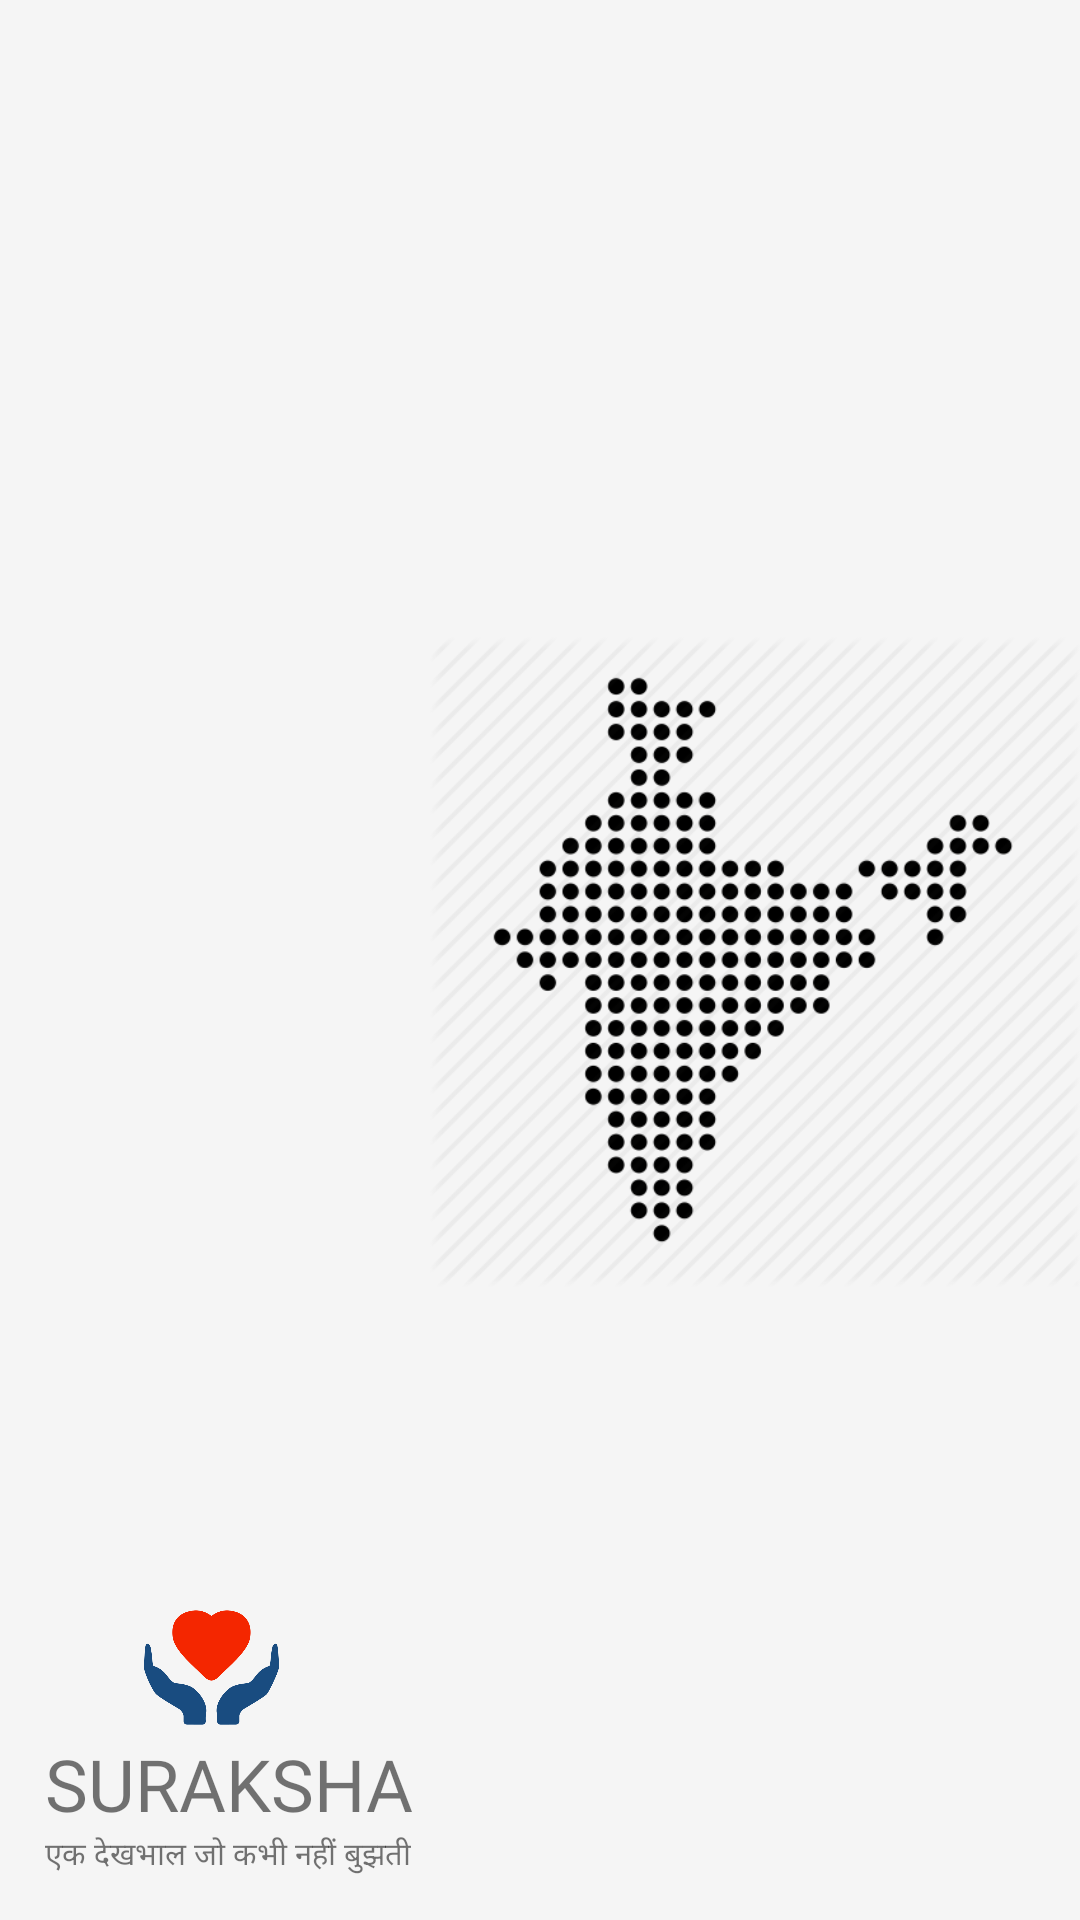

Screen size 1080*1920. Icon name, then its box in pixels as (x1, y1, x2, y2):
heart: (144, 1610, 279, 1725)
